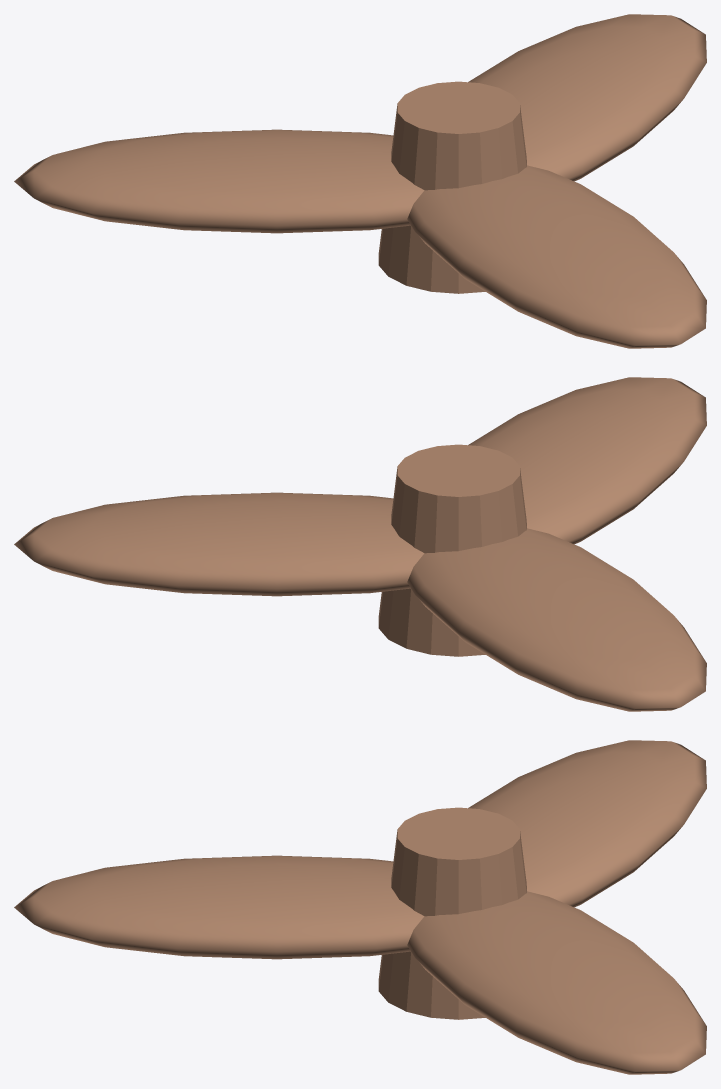
File: underwater-reef-worlds-propeller-139694cb__7066.glb
3 views of the same model, one above another, from view 1: azimuth 30°, elevation 25°; view 2: azimuth 150°, elevation 25°; view 3: azimuth 270°, elevation 25° (orthographic).
Parts seen in each view (by area): view 1: propeller; view 2: propeller; view 3: propeller.
Part boxes in pixels (left/top/right/bottom): propeller: left=14, top=14, right=706, bottom=348; propeller: left=14, top=377, right=706, bottom=711; propeller: left=14, top=740, right=706, bottom=1074.
Bounding box in the file's own units: 1.62 × 0.35 × 1.45.
